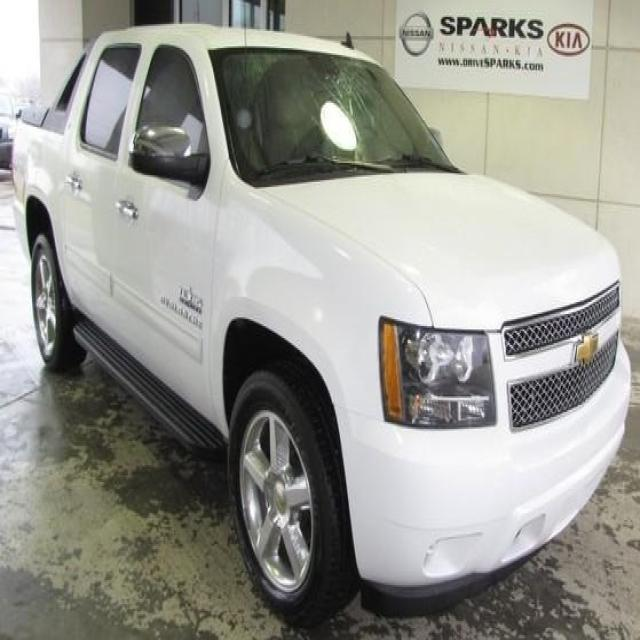CMT: (13, 32, 627, 628)
